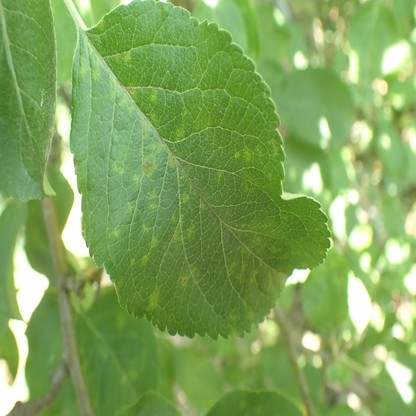scab: (81, 52, 299, 336)
